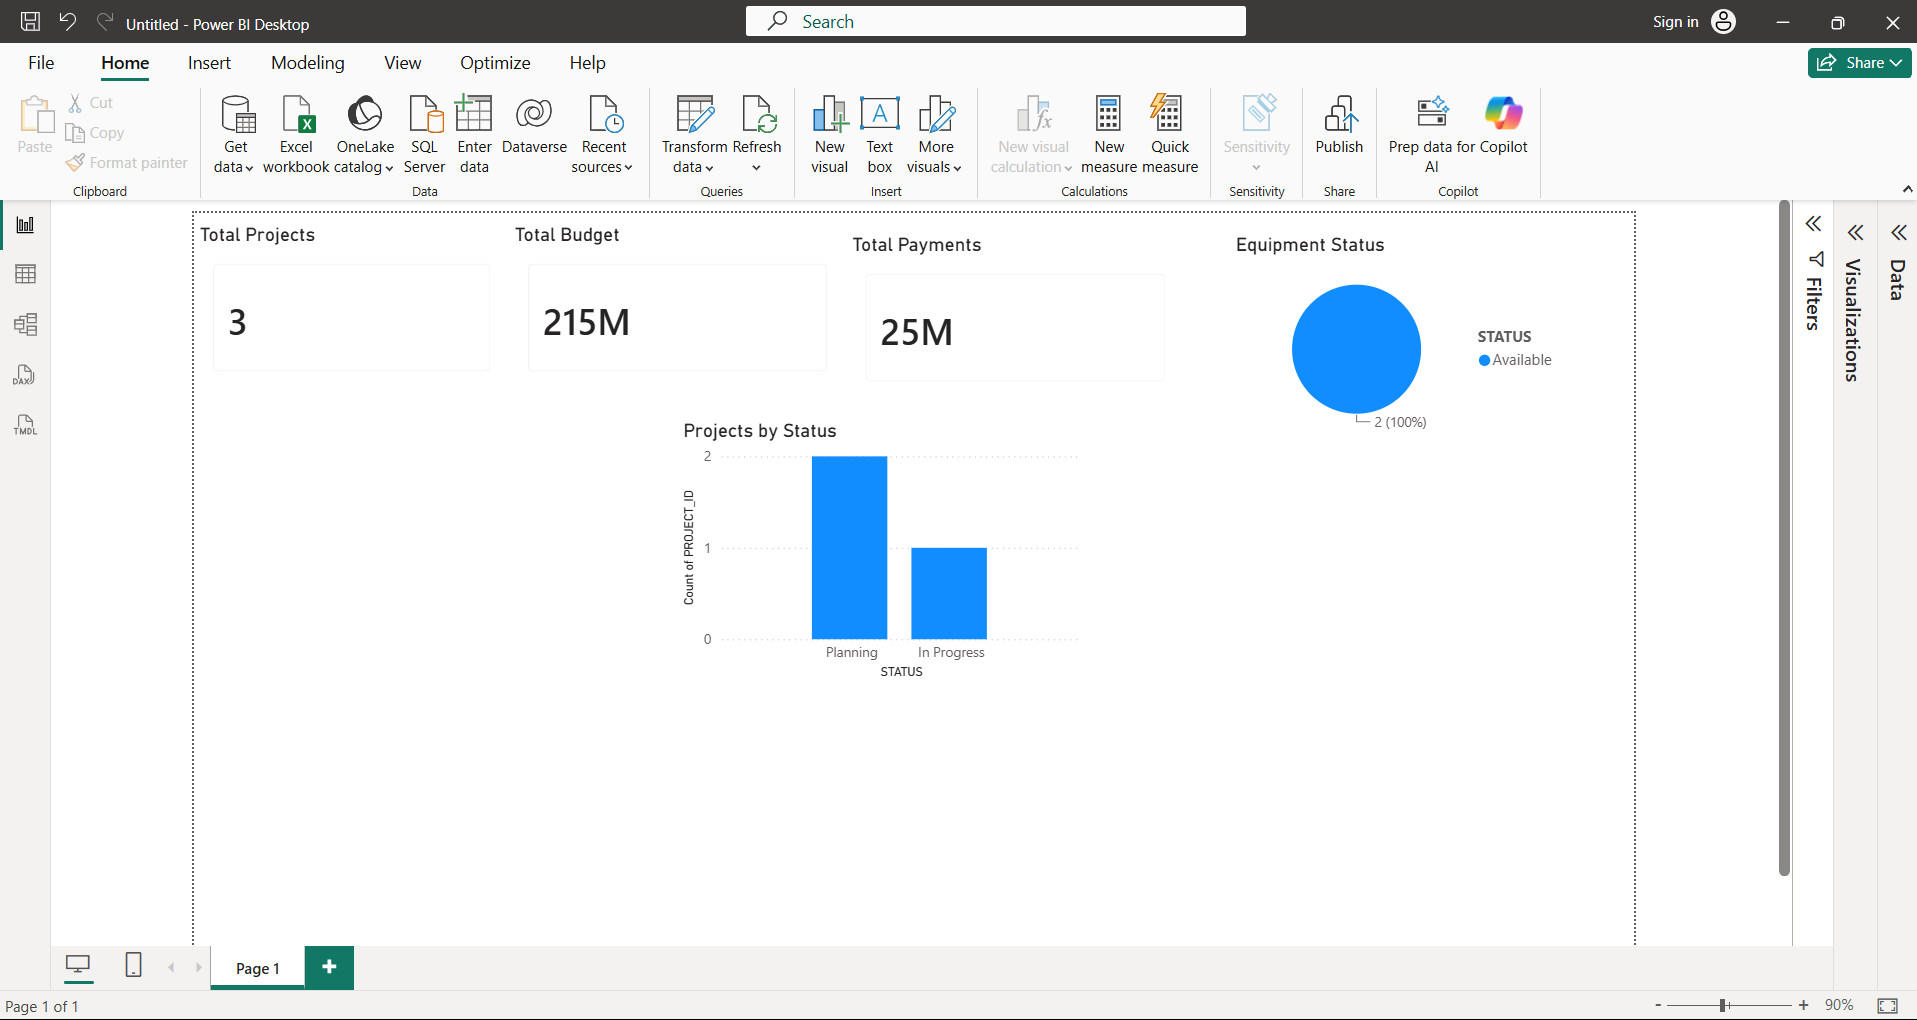

This screenshot's page, from the dashboard's own definition file:
{"tool":"powerbi","page":{"name":"Page 1","canvas":[1280,720],"ordinal":0},"visuals":[{"type":"cardVisual","title":"Total Projects","fields":{"Data":["CountNonNull(PROJECT.PROJECT_ID)"]},"box":[0,8.9,280,150],"z":0},{"type":"cardVisual","title":"Total Budget","fields":{"Data":["Sum(PROJECT.BUDGET)"]},"box":[280,8.9,300,150],"z":1},{"type":"pieChart","title":"Equipment Status","fields":{"Y":["Sum(EQUIPMENT.AVAILABLE_QUANTITY)"],"Category":["EQUIPMENT.STATUS"]},"box":[921.1,17.8,300,187.8],"z":2},{"type":"clusteredColumnChart","title":"Projects by Status","fields":{"Category":["PROJECT.STATUS"],"Y":["CountNonNull(PROJECT.PROJECT_ID)"]},"box":[430,183.3,363.3,235.6],"z":3},{"type":"cardVisual","title":"Total Payments","fields":{"Data":["Sum(PAYMENT.AMOUNT)"]},"box":[580,17.8,300,150],"z":4}]}

Visuals, with their boxes on the page's 1280x720 design canvas (x1, y1, x2, y2). These are canvas units, not pixel positions in the 1917x1020 screenshot, which may show the page scaled, cropped or inside an application window:
"Total Projects" cardVisual: <bbox>0, 9, 280, 159</bbox>
"Total Budget" cardVisual: <bbox>280, 9, 580, 159</bbox>
"Equipment Status" pieChart: <bbox>921, 18, 1221, 206</bbox>
"Projects by Status" clusteredColumnChart: <bbox>430, 183, 793, 419</bbox>
"Total Payments" cardVisual: <bbox>580, 18, 880, 168</bbox>
